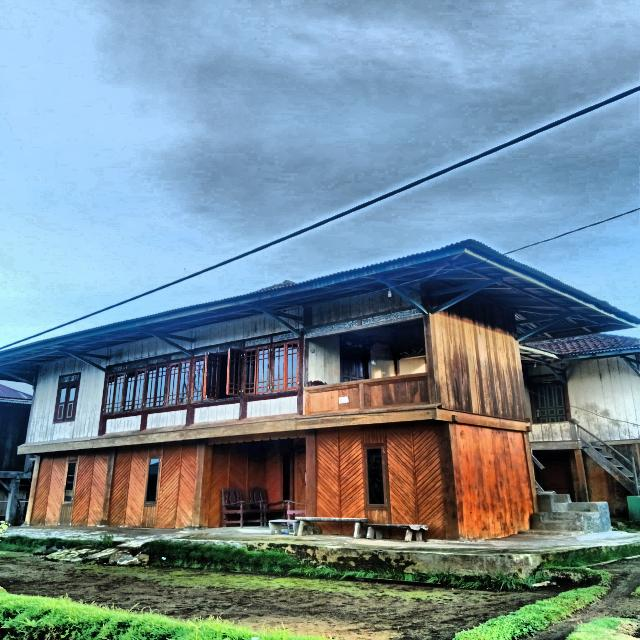column: (436, 423, 468, 541), (192, 438, 213, 527), (99, 447, 117, 525), (523, 432, 538, 513), (25, 453, 41, 524), (306, 428, 317, 517)
door: (533, 383, 567, 423)
ornamen: (363, 375, 430, 409), (305, 384, 360, 415), (242, 391, 298, 420), (189, 399, 240, 425), (143, 406, 187, 431), (101, 412, 142, 435)
roof: (0, 240, 640, 380), (526, 333, 640, 359), (0, 384, 32, 402)
stair: (570, 418, 640, 496)
wall: (316, 423, 446, 540), (189, 315, 298, 425), (434, 296, 525, 421), (455, 424, 533, 538), (101, 339, 191, 435), (107, 443, 198, 528), (550, 357, 640, 441), (28, 357, 105, 443), (208, 444, 282, 527), (31, 450, 109, 526)
window: (203, 348, 242, 400), (364, 446, 388, 507), (271, 340, 299, 392), (243, 345, 270, 396), (166, 359, 191, 407), (143, 364, 168, 409), (122, 367, 146, 412), (191, 357, 214, 403), (103, 371, 126, 415), (55, 381, 78, 421), (144, 456, 161, 504), (63, 461, 77, 503)
